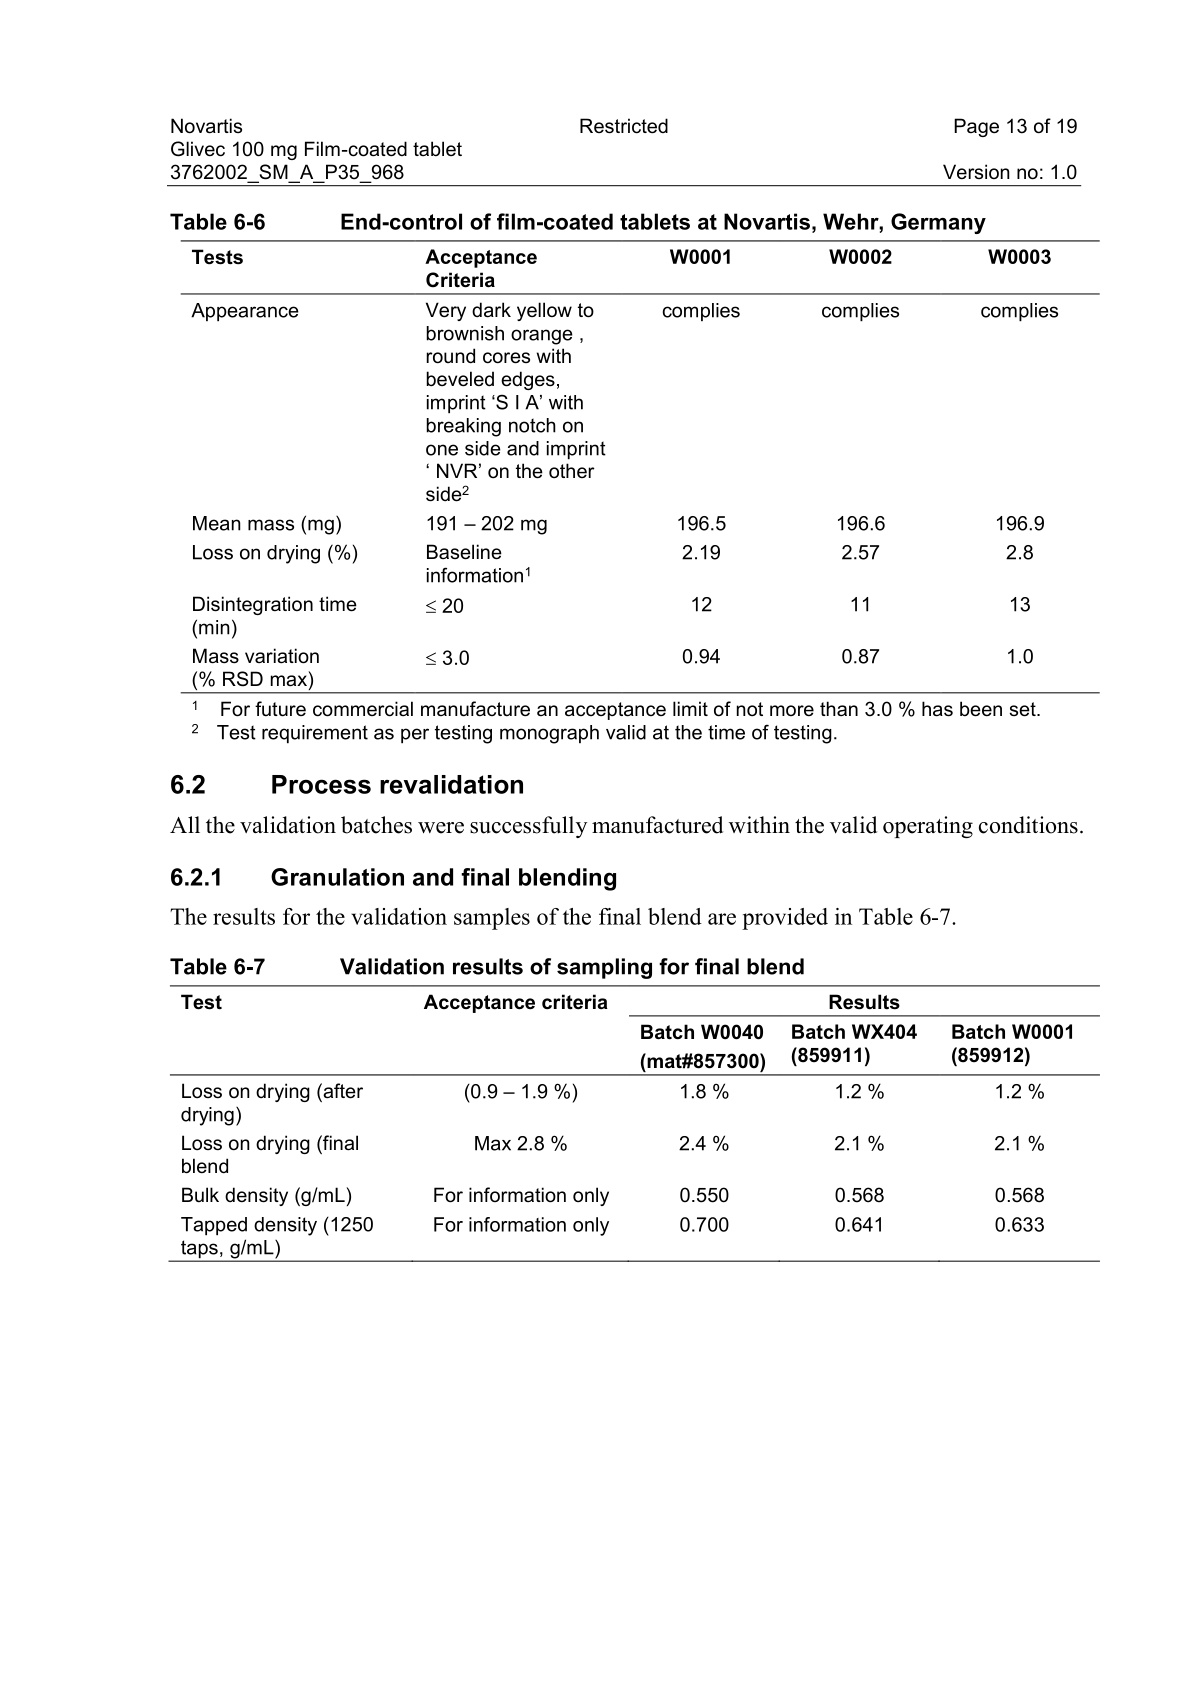partial_lined: (180, 238, 1102, 696)
partial_lined_merged_cells: (169, 983, 1101, 1265)
